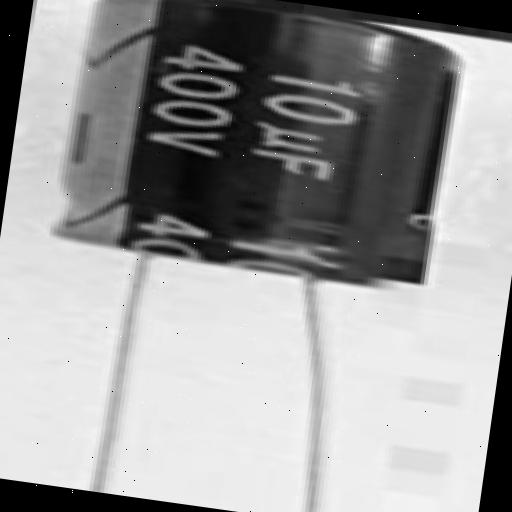CAPACITOR: (44, 0, 466, 294)
